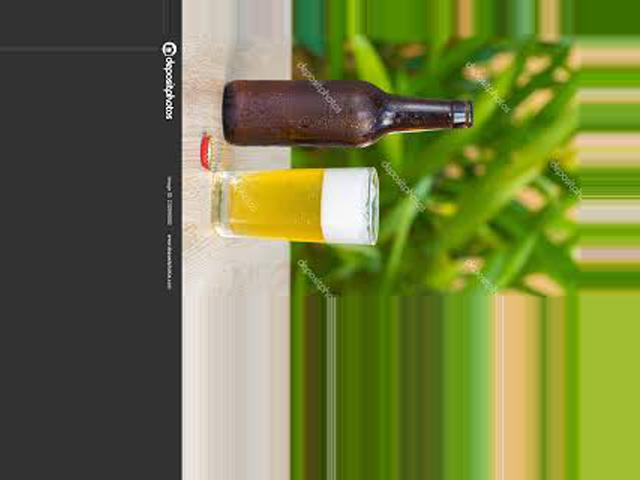beer: (220, 83, 470, 146)
